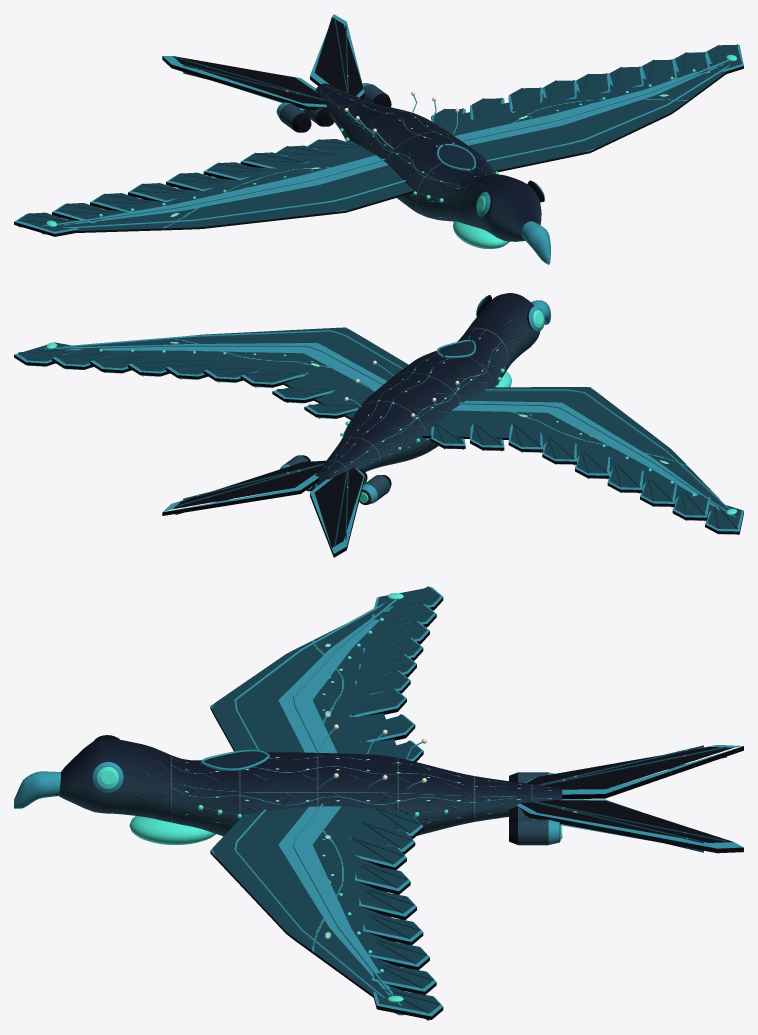
3 views of the same model, one above another, from view 1: azimuth 30°, elevation 25°; view 2: azimuth 150°, elevation 25°; view 3: azimuth 270°, elevation 25° (orthographic). The views are drawn at different scales.
Parts seen in each view (by area): view 1: frigatebird_hull; view 2: frigatebird_hull; view 3: frigatebird_hull.
Part boxes in pixels (<box>): frigatebird_hull: <box>14,14,743,264</box>; frigatebird_hull: <box>14,293,743,557</box>; frigatebird_hull: <box>14,586,743,1020</box>.
Bounding box in the file's own units: 88 × 9.38 × 63.18.
1 material, 1 textured.
